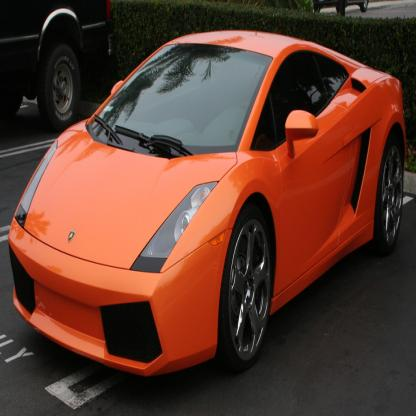Car: (10, 31, 407, 378), (1, 1, 112, 133), (314, 1, 370, 14)
